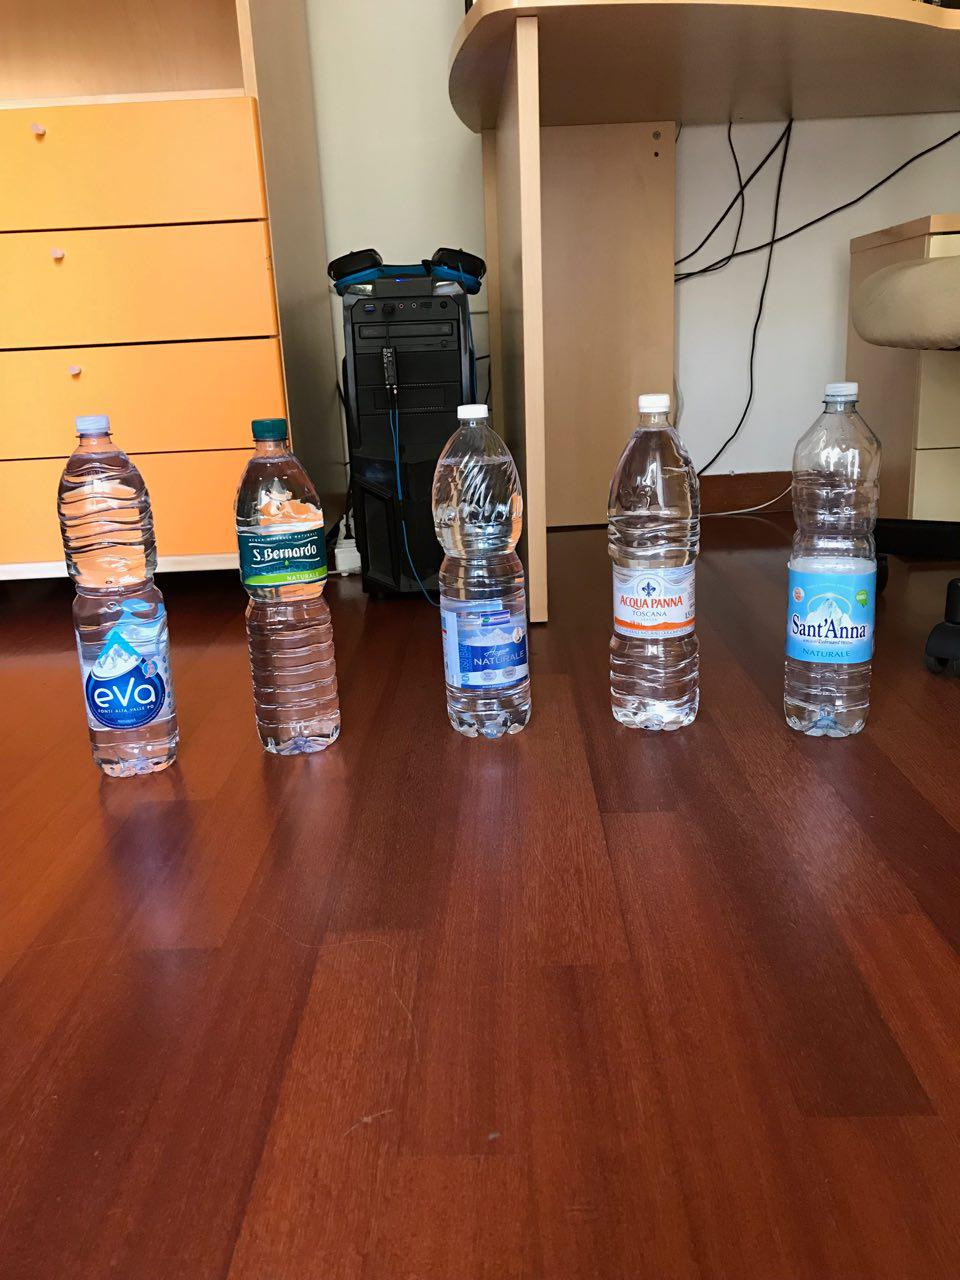san_bernardo: (232, 418, 341, 755)
